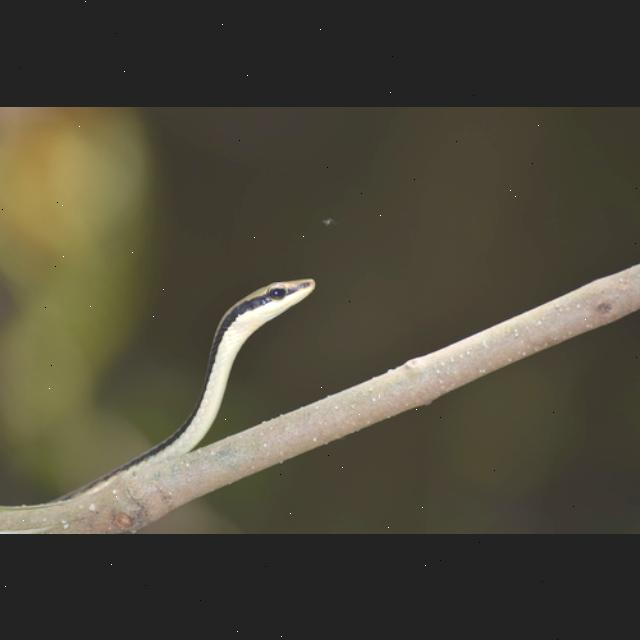snake: (27, 270, 323, 528)
